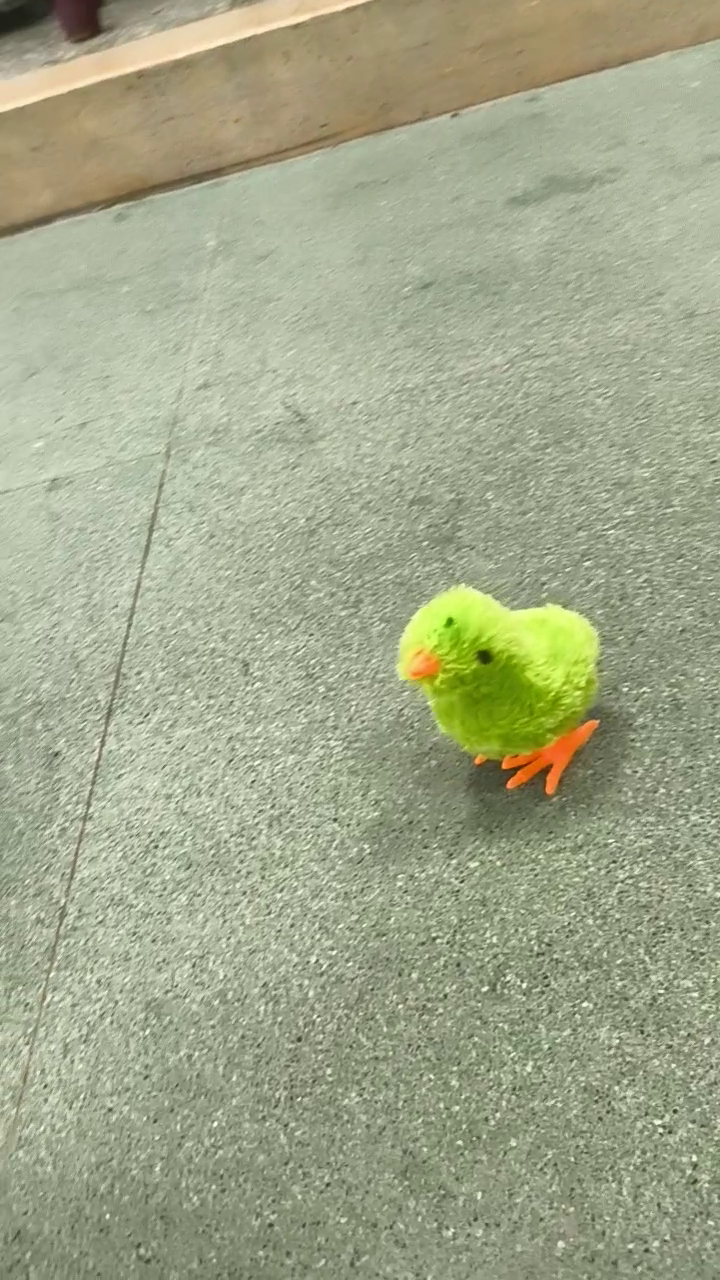green chicken: (393, 581, 608, 800)
